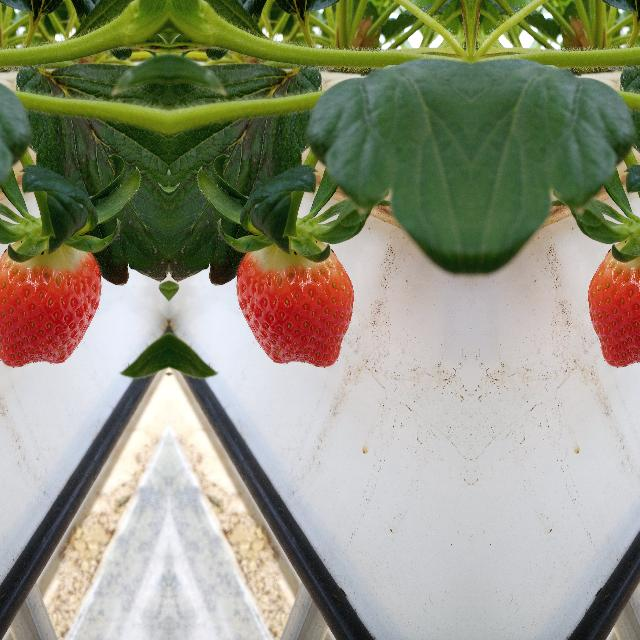Health_100: (235, 242, 355, 368), (0, 242, 101, 368), (586, 242, 640, 368)
